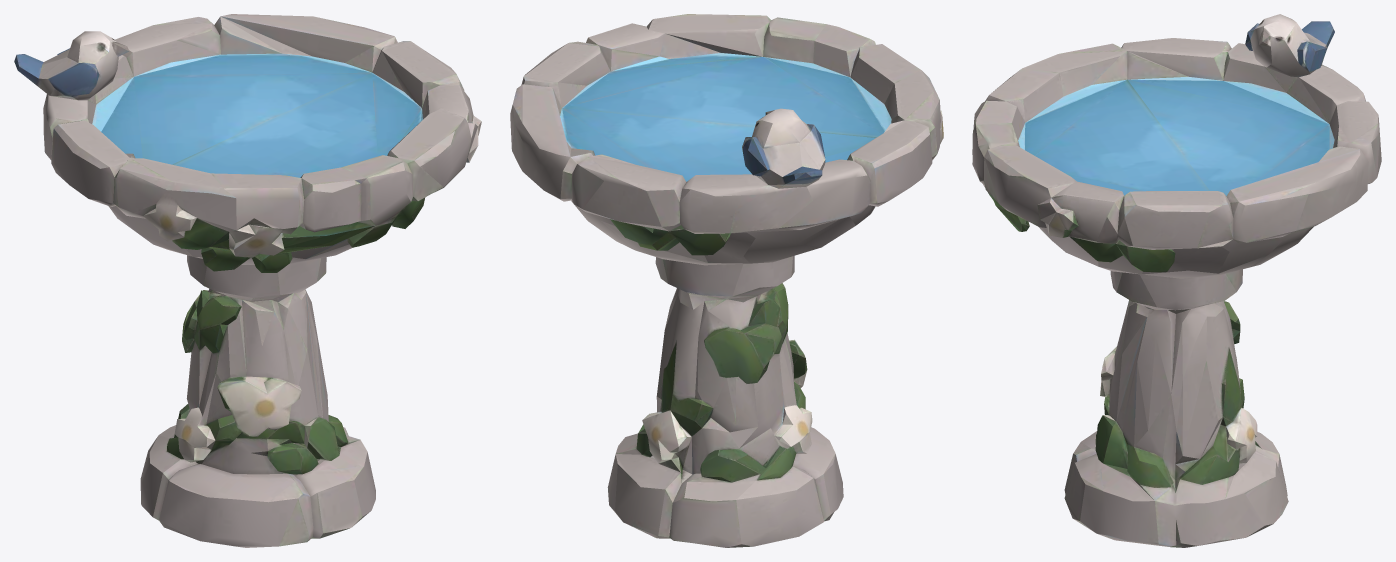
File: deco-bird-bath.glb
3 renders of one model, left to right at view 1: azimuth 30°, elevation 25°; view 2: azimuth 150°, elevation 25°; view 3: azimuth 270°, elevation 25°, orthographic. The views are drawn at different scales.
Visible parts, largest first — view 1: deco-bird-bath-fit; view 2: deco-bird-bath-fit; view 3: deco-bird-bath-fit.
Boxes of the visible parts, x1=… form: deco-bird-bath-fit: x1=14, y1=14, x2=481, y2=547; deco-bird-bath-fit: x1=510, y1=14, x2=943, y2=547; deco-bird-bath-fit: x1=972, y1=14, x2=1381, y2=547.
Size of the model in its own units: 0.8552 by 1 by 0.8506.
Materials: 1 (1 with a texture image).
